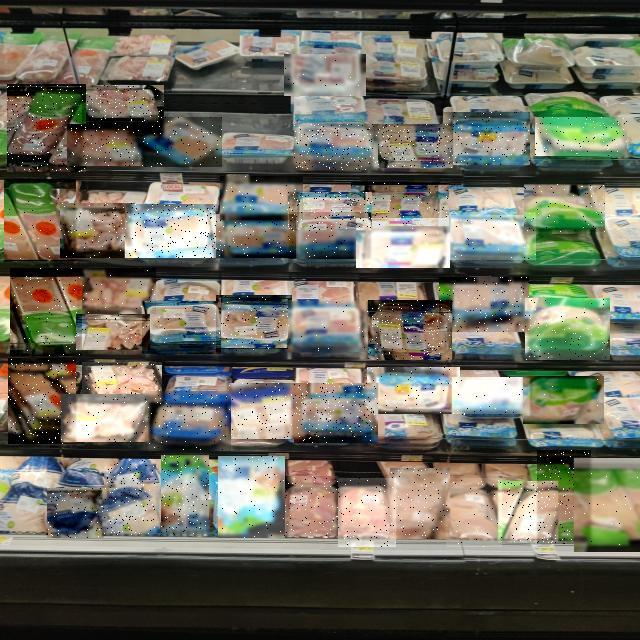Meat: (7, 84, 86, 172), (10, 269, 82, 357), (574, 458, 640, 552), (4, 179, 76, 261), (9, 358, 77, 444), (218, 457, 285, 539), (525, 298, 610, 360), (145, 391, 231, 451), (537, 450, 591, 544), (368, 300, 452, 360), (294, 383, 378, 443), (126, 204, 218, 258), (439, 277, 529, 332), (357, 219, 451, 269), (443, 112, 530, 165), (367, 367, 460, 414), (351, 182, 449, 226), (288, 301, 372, 352), (390, 468, 450, 539), (216, 296, 292, 352), (230, 383, 306, 439), (61, 394, 149, 442), (142, 301, 221, 354), (60, 203, 135, 258), (82, 86, 164, 136), (446, 215, 536, 260), (524, 184, 605, 234), (338, 478, 396, 547), (104, 460, 156, 536), (144, 117, 222, 167), (523, 376, 604, 424), (446, 478, 502, 547), (294, 124, 378, 170), (289, 212, 371, 259), (161, 456, 209, 536), (498, 481, 558, 542), (220, 176, 303, 220), (77, 269, 156, 315), (535, 117, 627, 156), (373, 124, 453, 168), (217, 215, 296, 259), (285, 55, 367, 97), (68, 124, 146, 166), (82, 362, 162, 402), (288, 192, 372, 230), (285, 476, 338, 536), (452, 378, 530, 416), (48, 488, 106, 538), (76, 314, 150, 350)
